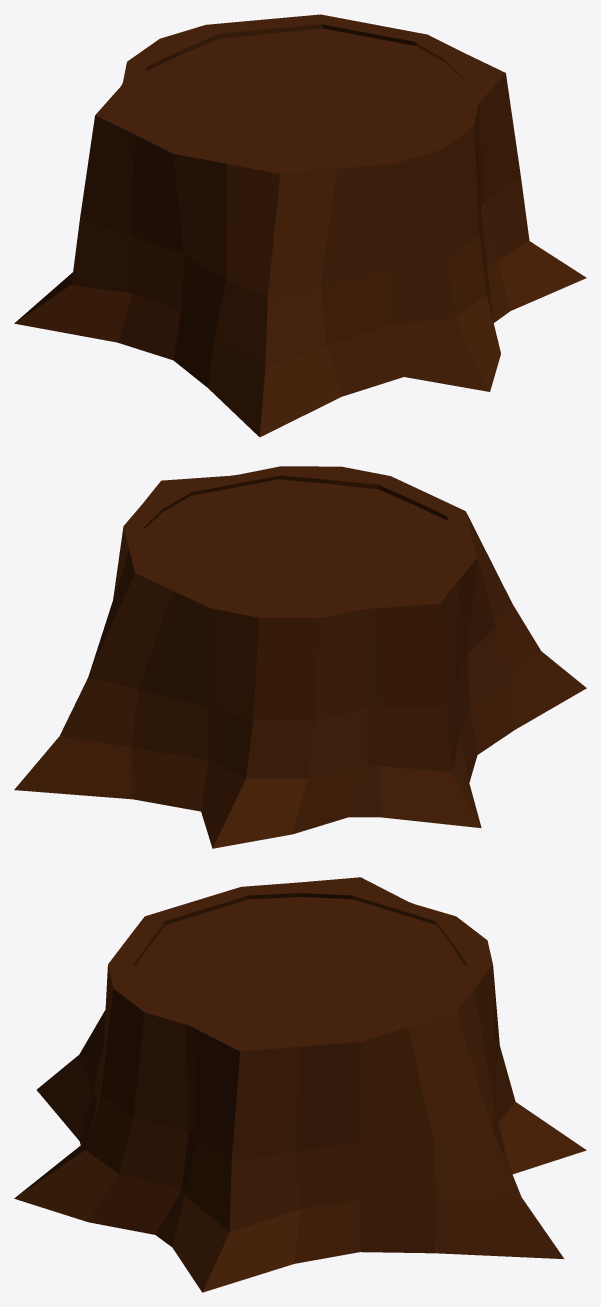
The model's file is stump_round.small.fbx.
The picture shows the model from 3 angles, top to bottom: view 1: azimuth 30°, elevation 25°; view 2: azimuth 150°, elevation 25°; view 3: azimuth 270°, elevation 25°; orthographic projection. The views are drawn at different scales.
Visible parts, largest first — view 1: Cylinder; view 2: Cylinder; view 3: Cylinder.
Boxes of the visible parts, left/top/right/bottom form: Cylinder: left=14, top=14, right=586, bottom=437; Cylinder: left=14, top=466, right=586, bottom=848; Cylinder: left=14, top=877, right=586, bottom=1292.
Bounding box in the file's own units: 371 × 154 × 380.
